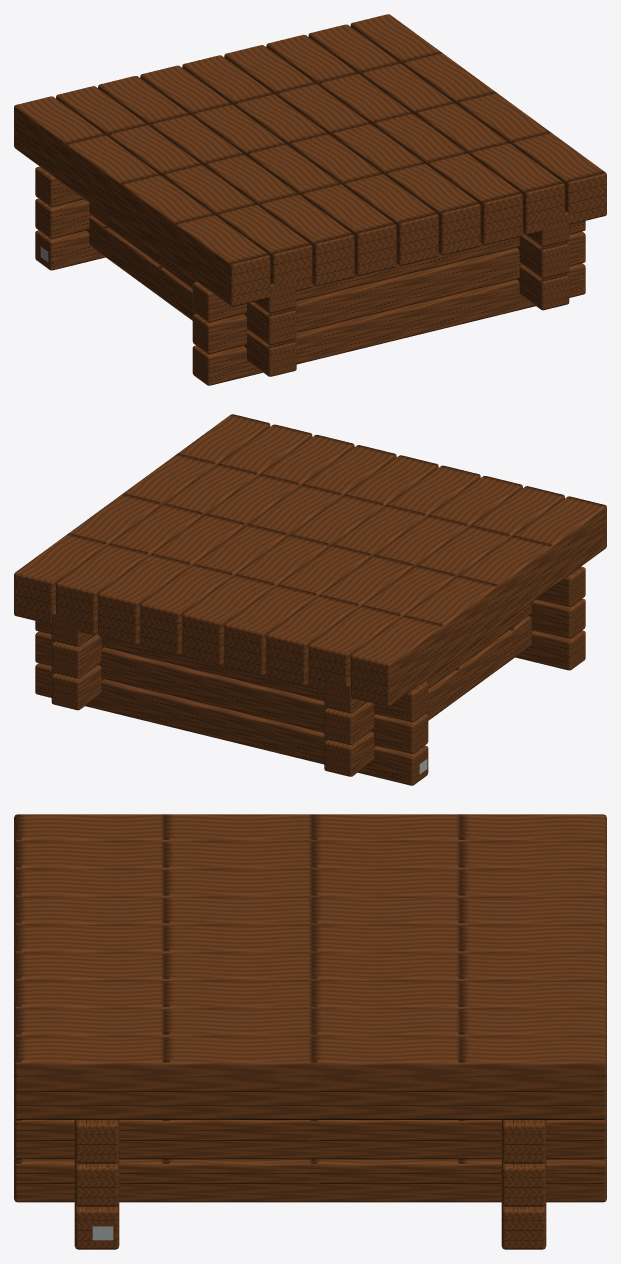
The model's file is modular-survival-base-builder-crib-foundation-reinforc-cc3d4b27__24272.glb.
3 renders of one model, top to bottom at view 1: azimuth 30°, elevation 25°; view 2: azimuth 150°, elevation 25°; view 3: azimuth 270°, elevation 25°, orthographic. The views are drawn at different scales.
Parts seen in each view (by area): view 1: crib-foundation-reinforced; view 2: crib-foundation-reinforced; view 3: crib-foundation-reinforced.
Part boxes in pixels (x1,y1,x2,y2): crib-foundation-reinforced: (14,14,606,385); crib-foundation-reinforced: (14,414,606,785); crib-foundation-reinforced: (14,814,606,1249).
Size of the model in its own units: 2 by 0.7 by 2.
Materials: 2 (1 with a texture image).
